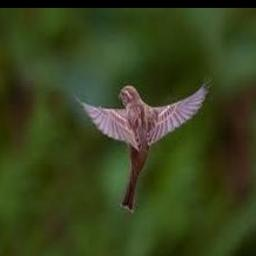Sparrow: (72, 76, 211, 213)
